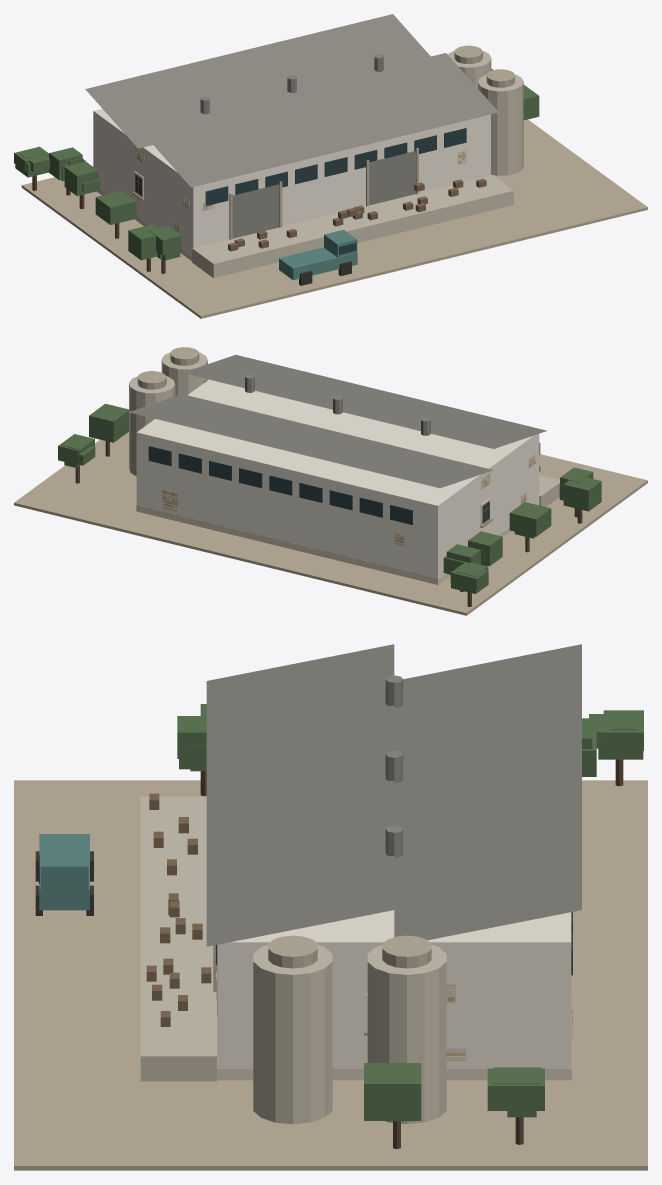
The model's file is zeytinyagi-fabrikasi.glb.
3 renders of one model, top to bottom at view 1: azimuth 30°, elevation 25°; view 2: azimuth 150°, elevation 25°; view 3: azimuth 270°, elevation 25°, orthographic. The views are drawn at different scales.
Visible parts, largest first — view 1: sac, zemin, badana, beton, zeytin, cam, kepenk2, beton2, ahsap, badana_kir; view 2: badana, zemin, sac, zeytin, cam, beton, badana_kir, beton2, ahsap_koyu; view 3: zemin, sac, beton, badana, zeytin, kepenk2, beton2, ahsap, badana_kir, ahsap_koyu.
Boxes of the visible parts, left/top/right/bottom form: sac: left=85, top=14, right=498, bottom=238; zemin: left=21, top=119, right=647, bottom=318; badana: left=93, top=108, right=490, bottom=255; beton: left=192, top=50, right=523, bottom=278; zeytin: left=14, top=68, right=539, bottom=260; cam: left=135, top=128, right=466, bottom=254; kepenk2: left=279, top=229, right=357, bottom=280; beton2: left=229, top=45, right=514, bottom=239; ahsap: left=135, top=174, right=486, bottom=251; badana_kir: left=97, top=146, right=466, bottom=260; badana: left=136, top=379, right=539, bottom=579; zemin: left=14, top=379, right=647, bottom=615; sac: left=129, top=355, right=547, bottom=488; zeytin: left=58, top=403, right=601, bottom=593; cam: left=148, top=446, right=489, bottom=524; beton: left=129, top=352, right=559, bottom=506; badana_kir: left=136, top=453, right=536, bottom=584; beton2: left=137, top=347, right=199, bottom=389; ahsap_koyu: left=75, top=441, right=582, bottom=606; zemin: left=14, top=780, right=647, bottom=1170; sac: left=206, top=644, right=581, bottom=1015; beton: left=140, top=796, right=446, bottom=1124; badana: left=217, top=910, right=571, bottom=1068; zeytin: left=177, top=704, right=643, bottom=1121; kepenk2: left=39, top=834, right=89, bottom=910; beton2: left=213, top=935, right=431, bottom=991; ahsap: left=146, top=793, right=211, bottom=1026; badana_kir: left=216, top=971, right=571, bottom=1080; ahsap_koyu: left=200, top=759, right=623, bottom=1148.
Size of the model in its own units: 36.72 by 8.8 by 25.
